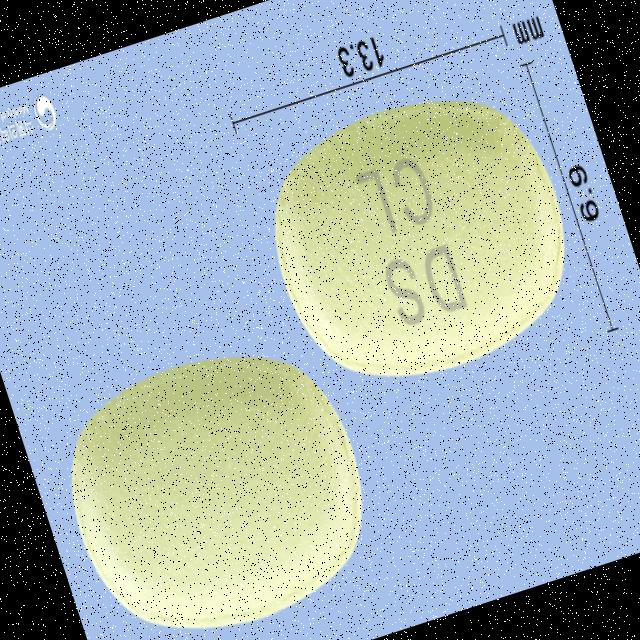Heracin: (242, 68, 598, 414), (41, 322, 396, 640)
